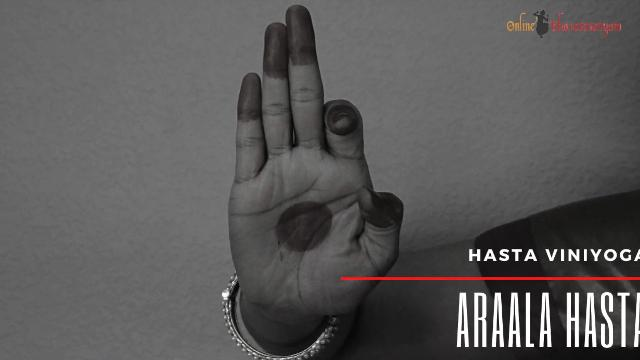aral: (214, 9, 412, 348)
